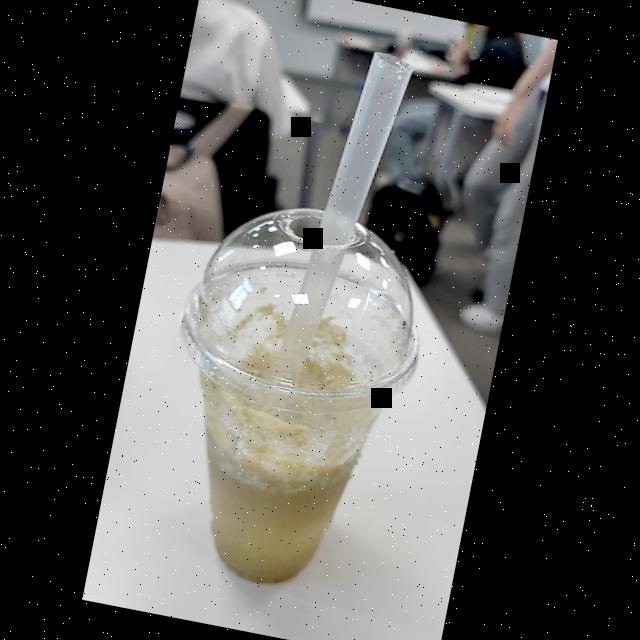plastic_cup: (130, 186, 445, 608)
plastic_cup_lid: (166, 188, 448, 430)
straw: (270, 42, 416, 386)
